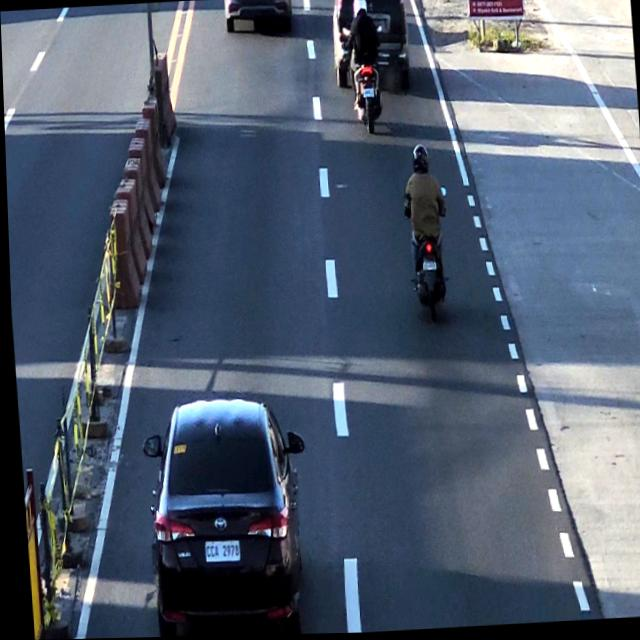Car: (139, 393, 300, 638), (325, 0, 415, 82), (219, 0, 295, 42)
License-Plate: (198, 536, 238, 567), (418, 259, 438, 276), (358, 89, 376, 102)
Motorcycle: (398, 139, 451, 315), (341, 0, 385, 135)
